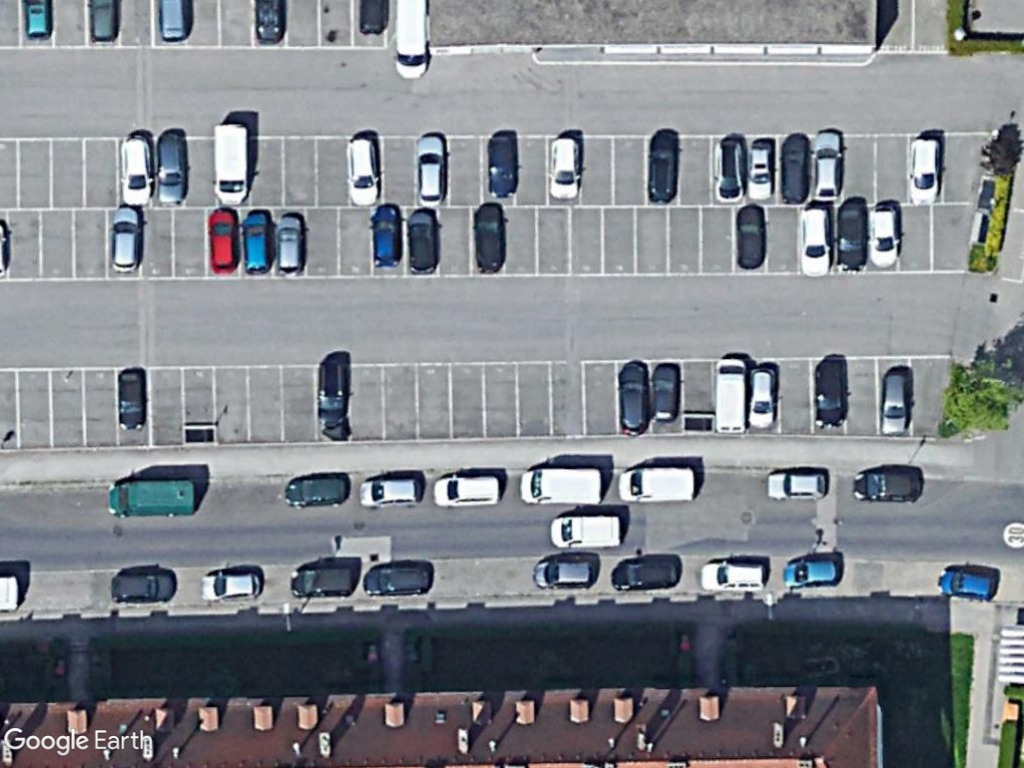car: (467, 197, 510, 275), (808, 123, 848, 206), (810, 354, 852, 432), (605, 552, 683, 594), (904, 130, 944, 210), (409, 130, 449, 208), (642, 127, 680, 208), (832, 195, 870, 276), (104, 568, 182, 607), (152, 126, 188, 210), (848, 468, 925, 507), (344, 134, 384, 209), (314, 352, 352, 430), (614, 359, 651, 439), (696, 555, 770, 595), (358, 563, 437, 600), (481, 130, 521, 202), (118, 131, 155, 208), (278, 472, 352, 510), (760, 465, 832, 504), (529, 553, 600, 592), (106, 203, 143, 277), (402, 202, 439, 276), (431, 472, 503, 510), (929, 564, 999, 603), (864, 201, 902, 271), (113, 365, 151, 435), (711, 134, 747, 207), (798, 204, 833, 279), (285, 565, 360, 600), (545, 134, 584, 201), (777, 553, 844, 592), (731, 200, 767, 272), (356, 472, 426, 509), (878, 368, 912, 439), (744, 364, 778, 434), (776, 131, 808, 205), (206, 208, 240, 276), (272, 207, 306, 275), (647, 358, 682, 424), (368, 199, 400, 270), (198, 568, 265, 601), (240, 208, 271, 277), (744, 134, 774, 203)
van: (101, 475, 202, 520), (516, 464, 606, 509), (208, 120, 253, 208), (613, 463, 698, 505), (709, 353, 749, 439), (546, 511, 627, 552)
